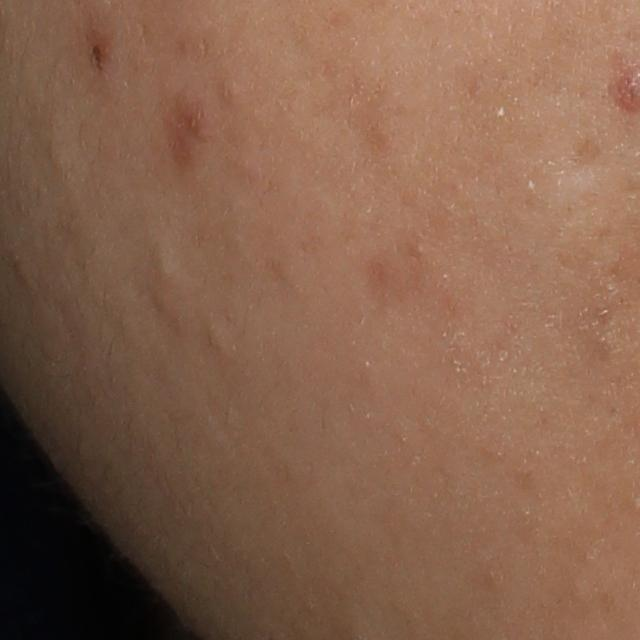comedo: (204, 316, 243, 367), (148, 238, 187, 286)
